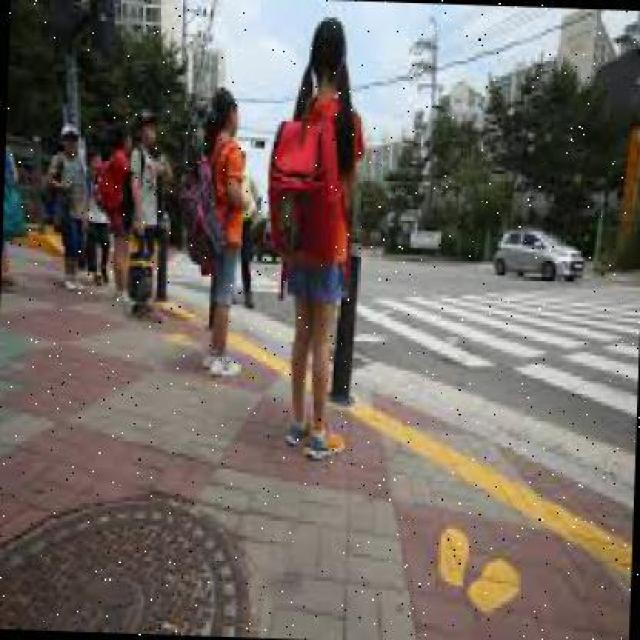Person: (274, 15, 360, 460), (192, 89, 254, 380), (122, 108, 172, 315), (42, 123, 88, 289), (96, 127, 132, 304)
